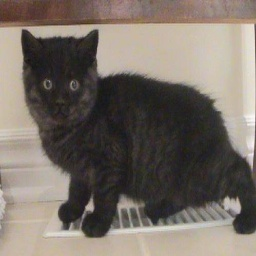cat: (18, 26, 256, 236)
